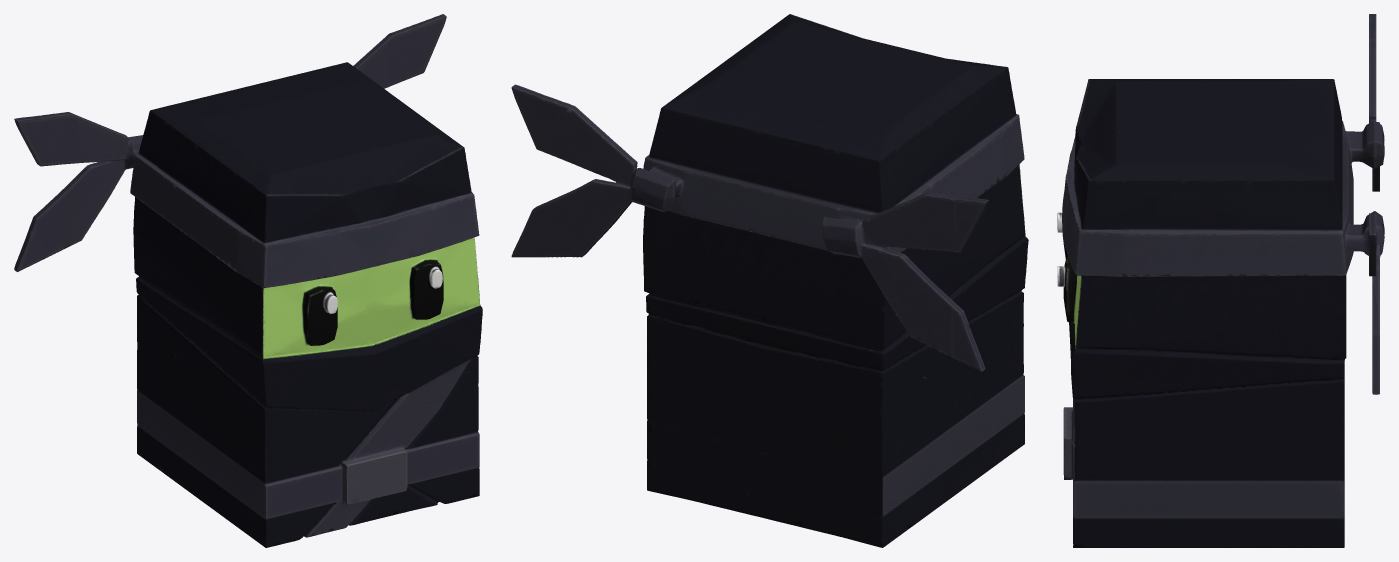
Rendered from ninja.glb.
The picture shows the model from 3 angles, left to right: view 1: azimuth 30°, elevation 25°; view 2: azimuth 150°, elevation 25°; view 3: azimuth 270°, elevation 25°; orthographic projection. The views are drawn at different scales.
Size of the model in its own units: 1.9 by 1.49 by 1.19.
1 material, 1 textured.
